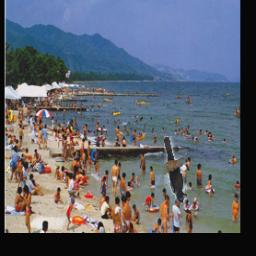Crow: (165, 137, 188, 203)
